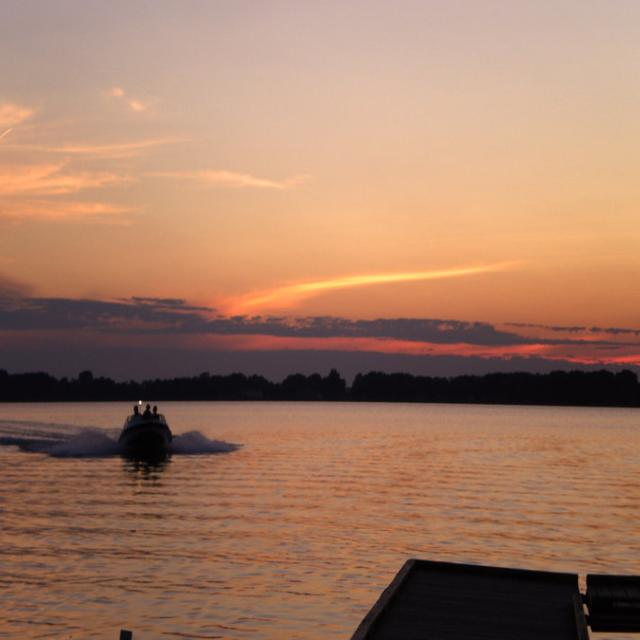Boat: (110, 404, 181, 484)
